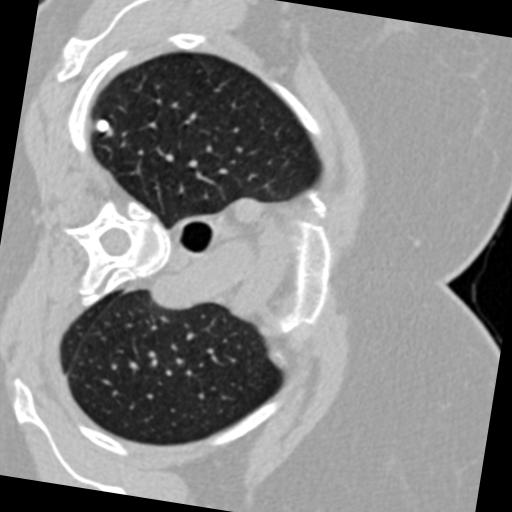nodule: (93, 115, 114, 136)
